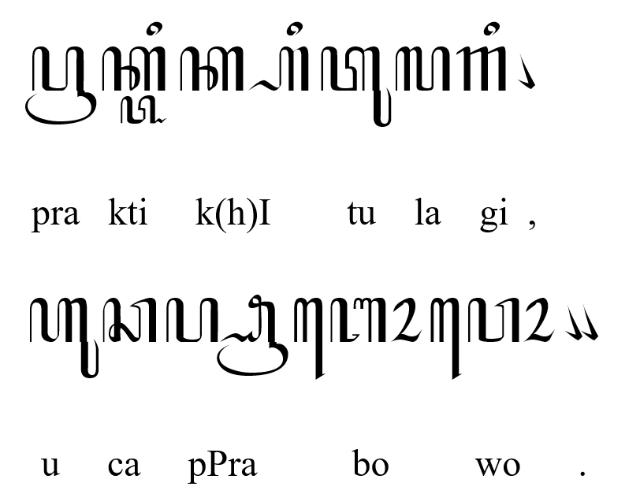_Pr: (217, 294, 289, 376)
_h: (248, 46, 310, 93)
_t: (120, 95, 168, 125)
b: (329, 296, 387, 344)
c: (102, 297, 158, 343)
e1: (430, 296, 462, 381), (294, 297, 326, 381)
g: (456, 46, 508, 93)
hu: (29, 297, 99, 379)
i: (145, 20, 163, 36), (483, 20, 501, 36), (286, 22, 302, 36)
k: (179, 46, 245, 92)
kom: (516, 52, 536, 90), (564, 304, 584, 341), (580, 304, 598, 341)
l: (394, 47, 452, 93)
o: (391, 297, 423, 343), (523, 296, 555, 342)
p: (166, 298, 220, 342)
pr: (24, 45, 96, 125)
t: (101, 45, 167, 91)
tu: (318, 45, 392, 127)
w: (467, 296, 521, 344)
